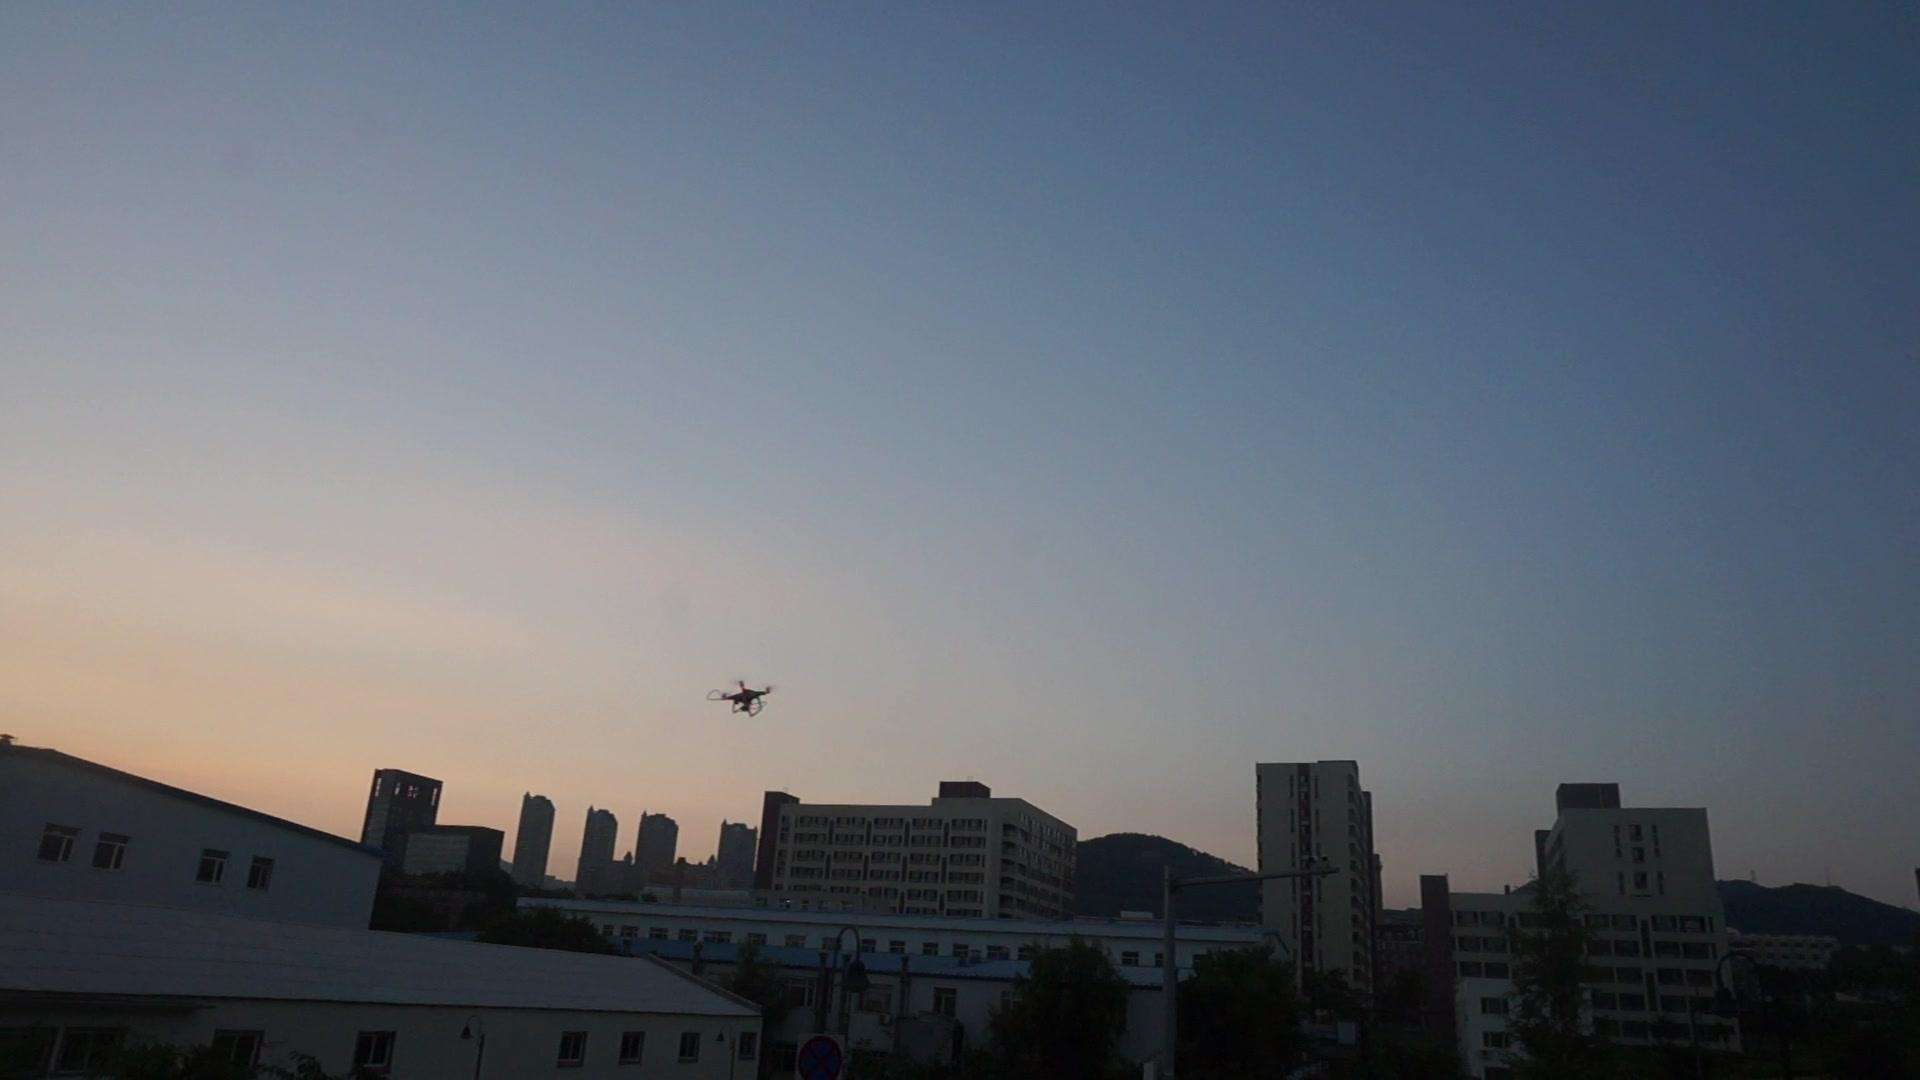UAV: (705, 680, 774, 717)
